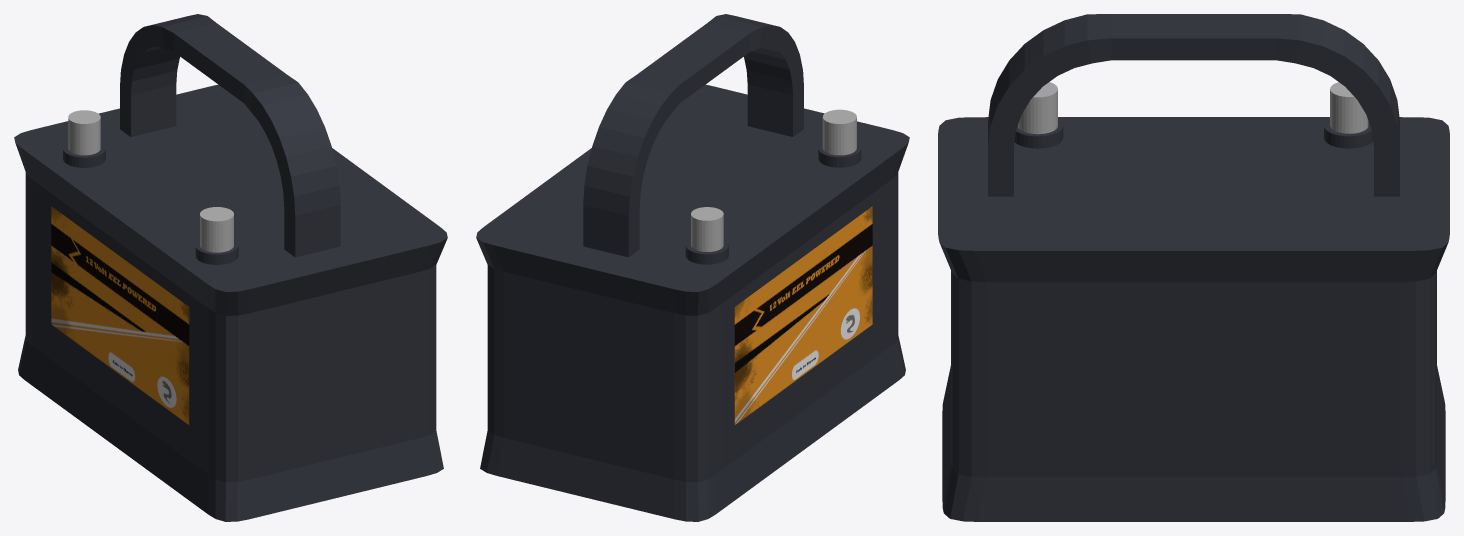
File: battery.glb
3 renders of one model, left to right at view 1: azimuth 30°, elevation 25°; view 2: azimuth 150°, elevation 25°; view 3: azimuth 270°, elevation 25°, orthographic. The views are drawn at different scales.
Visible parts, largest first — view 1: CarBattery; view 2: CarBattery; view 3: CarBattery.
Boxes of the visible parts, left/top/right/bottom form: CarBattery: left=14, top=14, right=447, bottom=521; CarBattery: left=476, top=14, right=909, bottom=521; CarBattery: left=938, top=14, right=1449, bottom=521.
Size of the model in its own units: 0.2106 by 0.3156 by 0.3407.
3 materials, 1 textured.
